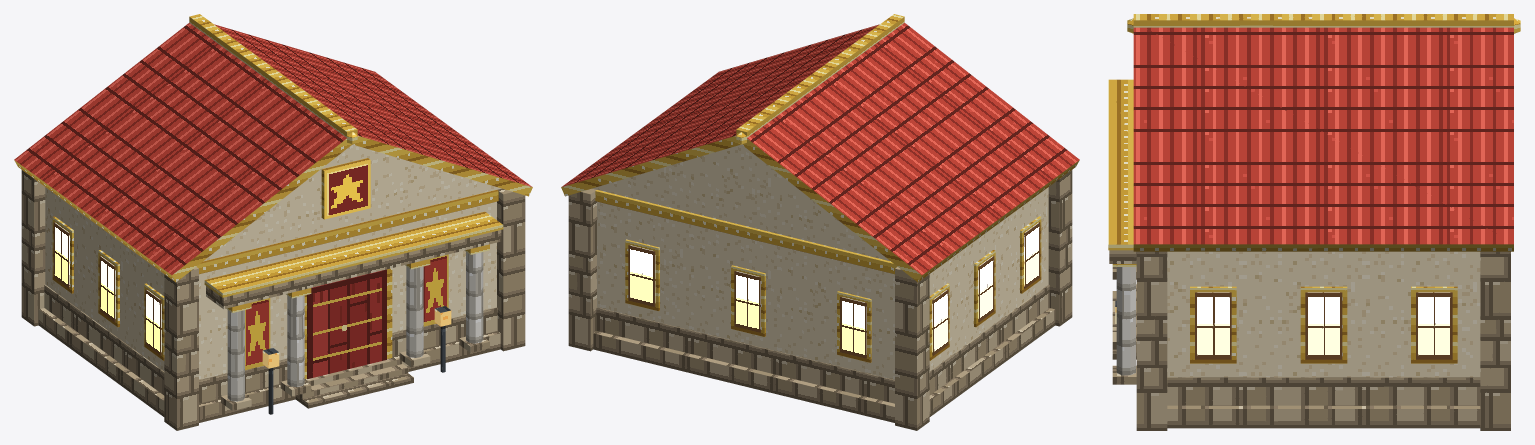
The model's file is gym.glb.
3 views of the same model, side by side, from view 1: azimuth 30°, elevation 25°; view 2: azimuth 150°, elevation 25°; view 3: azimuth 270°, elevation 25° (orthographic). The views are drawn at different scales.
Visible parts, largest first — view 1: gym; view 2: gym; view 3: gym.
Boxes of the visible parts, box(x1,y1,x2,y2) form: gym: box(14, 14, 532, 430); gym: box(561, 14, 1079, 430); gym: box(1108, 14, 1520, 430).
Size of the model in its own units: 8.18 by 5.6 by 6.71.
Materials: 11 (11 with a texture image).
